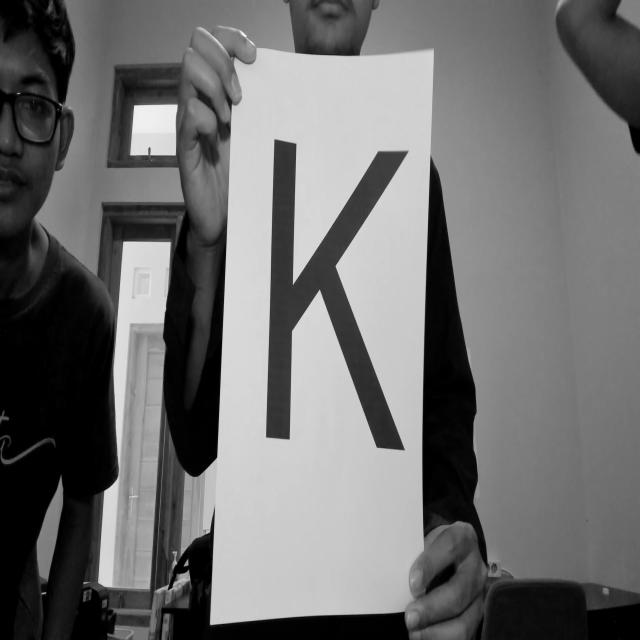k: (247, 105, 435, 499)
